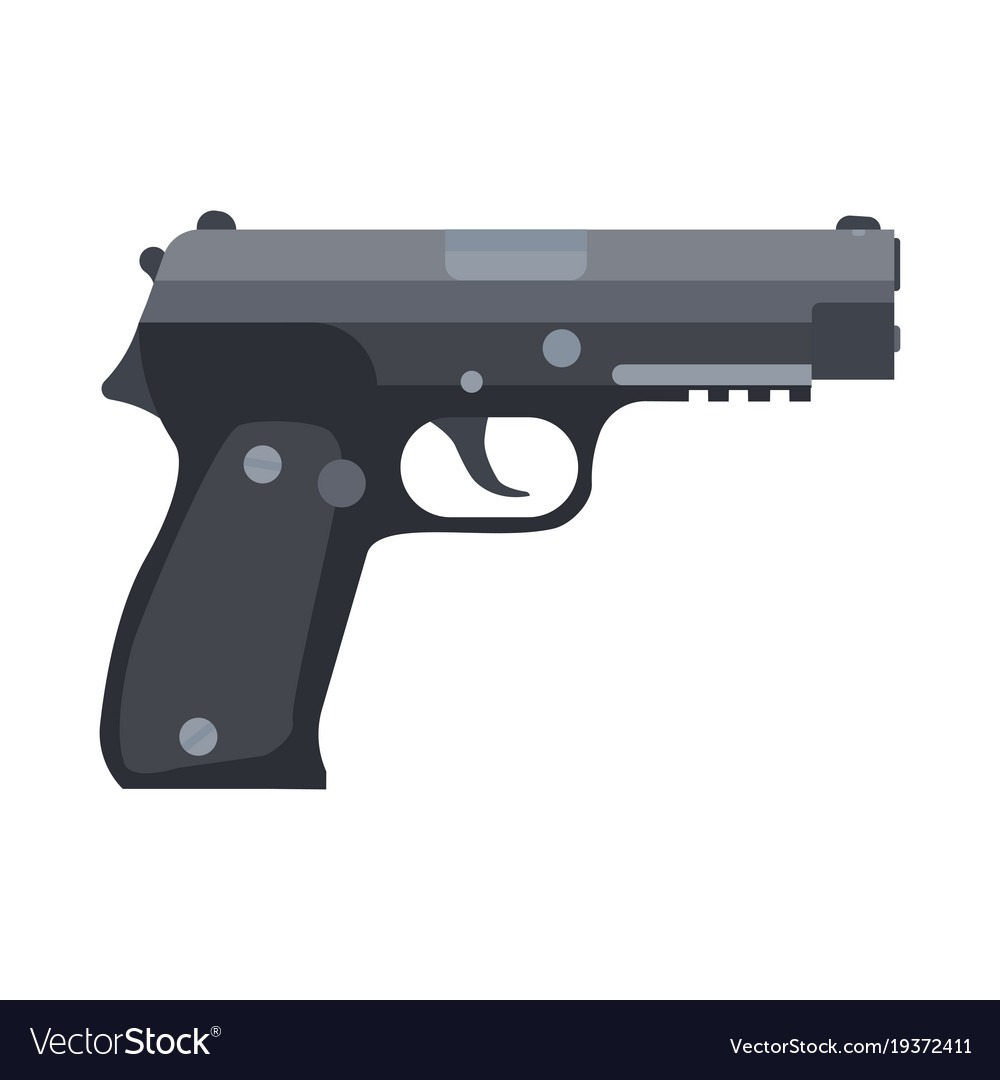gun: (95, 195, 912, 790)
